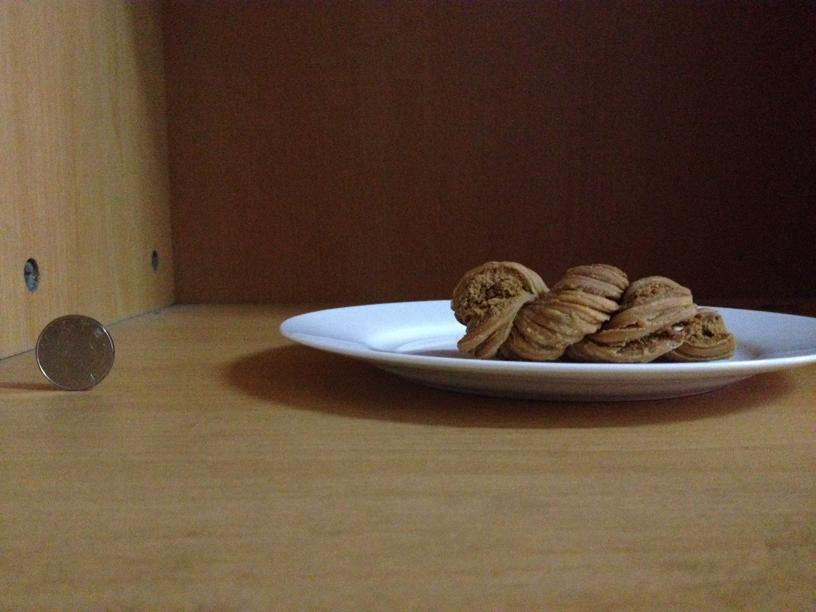coin: (33, 310, 116, 390)
fired_dough_twist: (440, 260, 737, 360)
